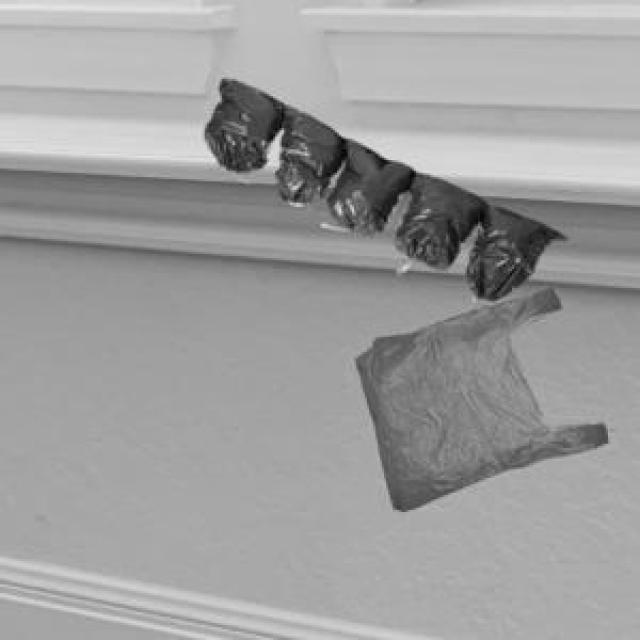miscellaneous trash: (201, 76, 561, 297)
